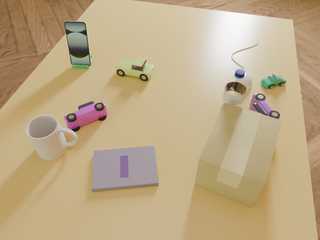book: (92, 146, 158, 191)
bottle: (218, 69, 247, 116)
box: (195, 103, 281, 207)
cup: (26, 115, 77, 160)
mouse: (244, 70, 252, 92)
phone: (64, 21, 91, 66)
toy_car: (64, 101, 107, 132), (116, 57, 154, 81), (250, 93, 280, 119), (261, 73, 286, 89)
